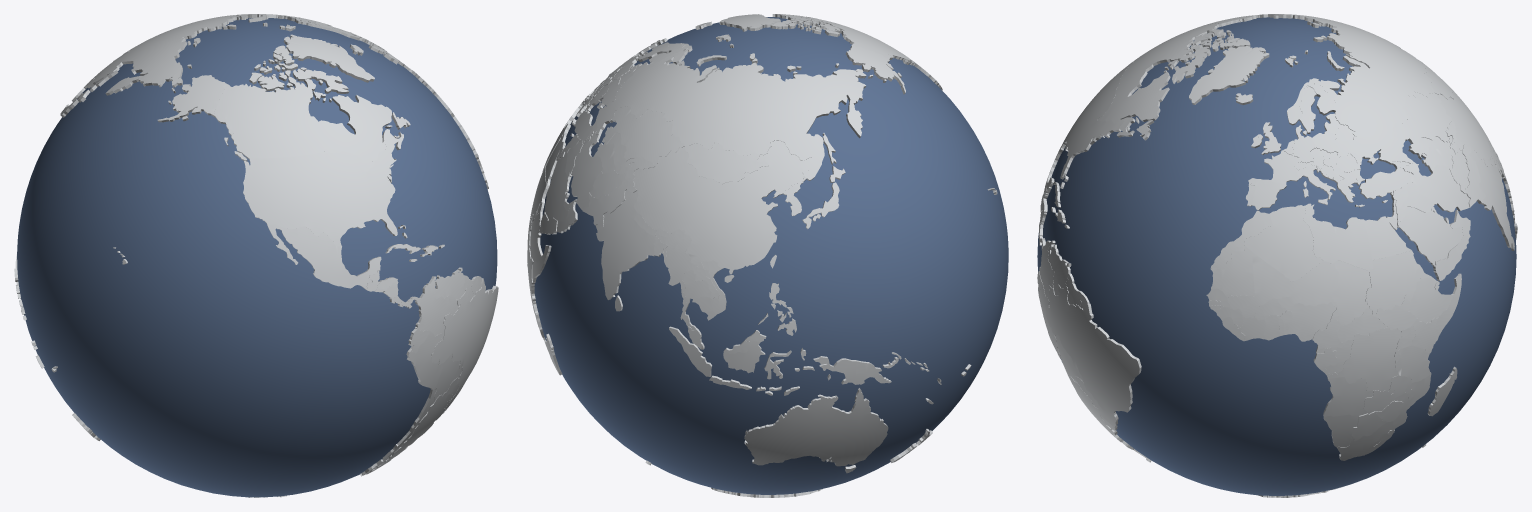
File: globe.glb
3 renders of one model, left to right at view 1: azimuth 30°, elevation 25°; view 2: azimuth 150°, elevation 25°; view 3: azimuth 270°, elevation 25°, orthographic.
Parts seen in each view (by area): view 1: OCEAN, CTRY-US, CTRY-CA, CTRY-RU, CTRY-BR, CTRY-MX, CTRY-GL, CTRY-CO, CTRY-PE, CTRY-AR, CTRY-VE, CTRY-BO (+1 smaller); view 2: OCEAN, CTRY-RU, CTRY-CN, CTRY-AU, CTRY-IN, CTRY-ID, CTRY-KZ, CTRY-MN, CTRY-CA, CTRY-US, CTRY-IR, CTRY-SA (+10 smaller); view 3: OCEAN, CTRY-RU, CTRY-BR, CTRY-CA, CTRY-DZ, CTRY-CD, CTRY-US, CTRY-SD, CTRY-LY, CTRY-KZ, CTRY-SA, CTRY-GL (+38 smaller).
Part boxes in pixels (box(x1,y1,x2,y2)): OCEAN: box(17, 18, 497, 497); CTRY-US: box(113, 75, 397, 264); CTRY-CA: box(214, 45, 410, 171); CTRY-RU: box(86, 14, 346, 95); CTRY-BR: box(431, 278, 498, 413); CTRY-MX: box(267, 224, 381, 289); CTRY-GL: box(283, 34, 374, 82); CTRY-CO: box(415, 276, 451, 338); CTRY-PE: box(406, 330, 442, 389); CTRY-AR: box(366, 391, 457, 474); CTRY-VE: box(432, 269, 465, 314); CTRY-BO: box(434, 354, 462, 400); OCEAN: box(534, 17, 1008, 494); CTRY-RU: box(596, 43, 866, 182); CTRY-CN: box(633, 140, 810, 282); CTRY-AU: box(744, 388, 888, 473); CTRY-IN: box(596, 190, 687, 299); CTRY-ID: box(669, 326, 856, 395); CTRY-KZ: box(603, 106, 684, 165); CTRY-MN: box(685, 142, 768, 183); CTRY-CA: box(770, 14, 914, 65); CTRY-US: box(845, 44, 997, 194); CTRY-IR: box(571, 136, 602, 210); CTRY-SA: box(544, 152, 570, 221); OCEAN: box(1037, 17, 1516, 495); CTRY-RU: box(1259, 14, 1434, 164); CTRY-BR: box(1045, 284, 1141, 429); CTRY-CA: box(1097, 23, 1250, 140); CTRY-DZ: box(1244, 205, 1322, 281); CTRY-CD: box(1328, 327, 1401, 393); CTRY-US: box(1060, 15, 1259, 179); CTRY-SD: box(1365, 250, 1420, 316); CTRY-LY: box(1311, 217, 1373, 271); CTRY-KZ: box(1391, 92, 1453, 157); CTRY-SA: box(1397, 207, 1463, 266); CTRY-GL: box(1189, 46, 1269, 104).
Bounding box in the file's own units: 2.01 × 2.02 × 2.
